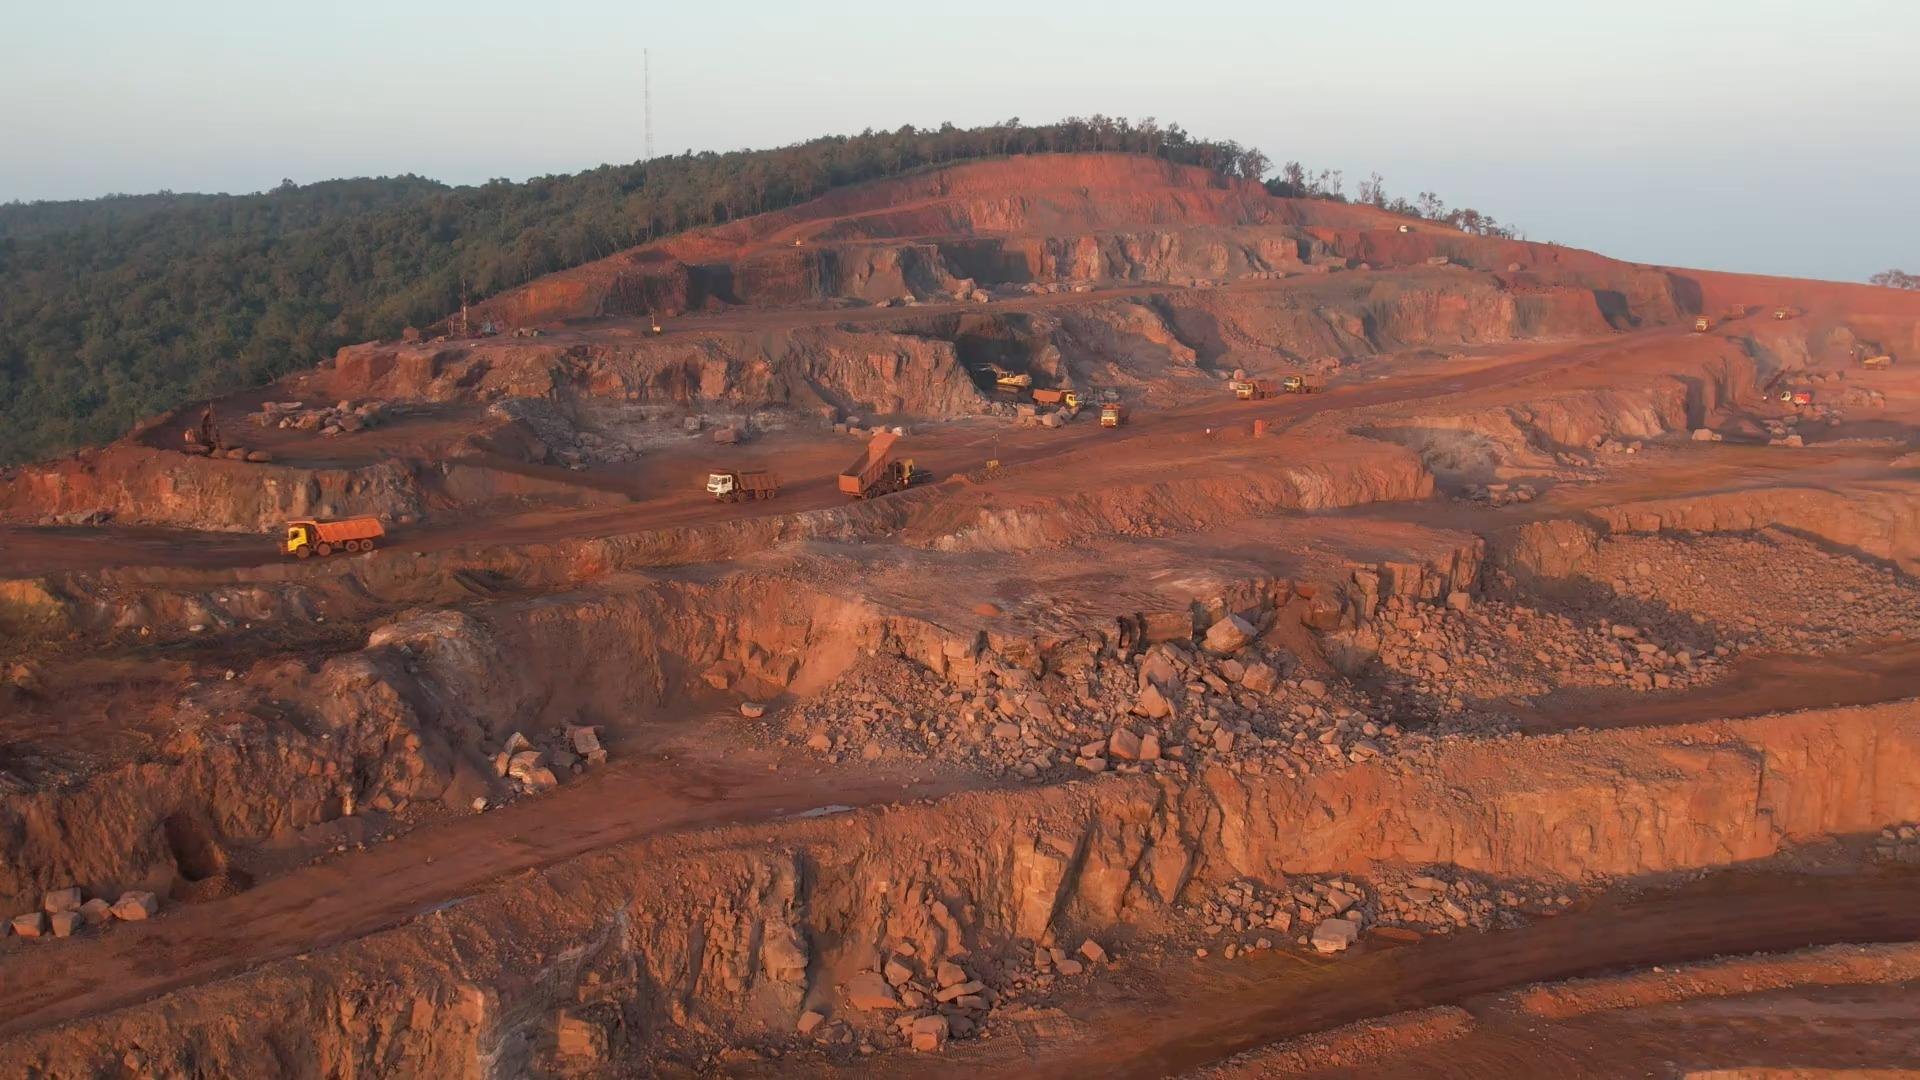excavator: (185, 397, 227, 455), (978, 360, 1030, 392)
